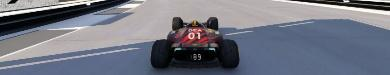Car: (149, 16, 239, 68)
